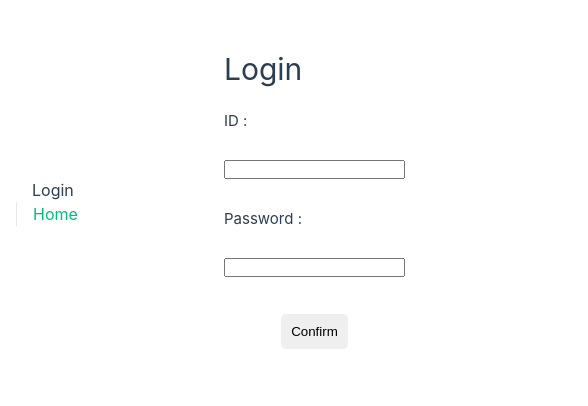
Login page › shows error message when the input is invalid
Type "id" into the field with id "user". click: [315, 170]
box: x1=224 y1=160 x2=405 y2=179
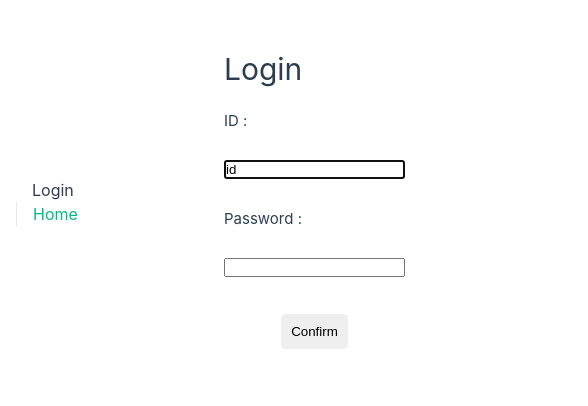
Type "pass" into the password field labelled "Password :". click: [315, 268]
box: x1=224 y1=258 x2=405 y2=277
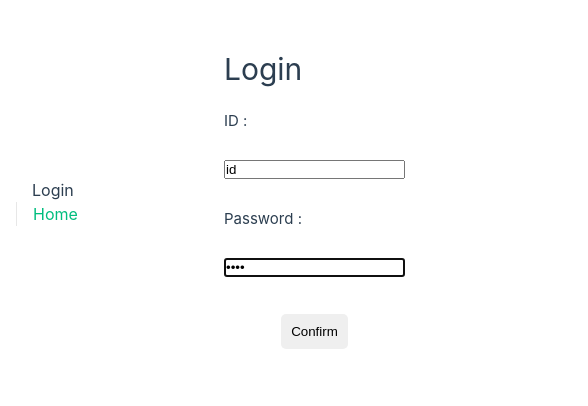
Submit the form, box x1=224 y1=109 x2=405 y2=359
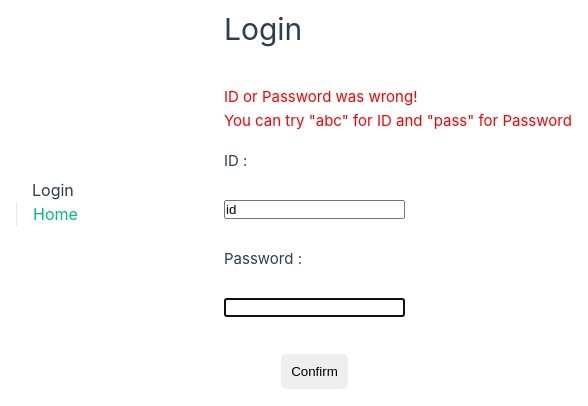
expect the element that starts with "ID or Password was wrong!" is shown: met, box x1=224 y1=87 x2=417 y2=106
